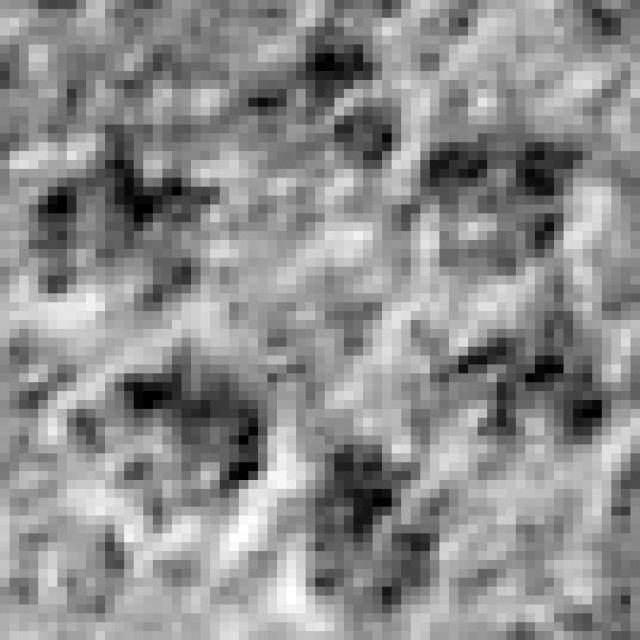inner: (205, 178, 438, 401)
lobe: (71, 349, 276, 525), (442, 301, 619, 466), (20, 150, 217, 298), (226, 15, 402, 178), (297, 438, 448, 624), (418, 126, 591, 277)
outer: (7, 0, 640, 640)
